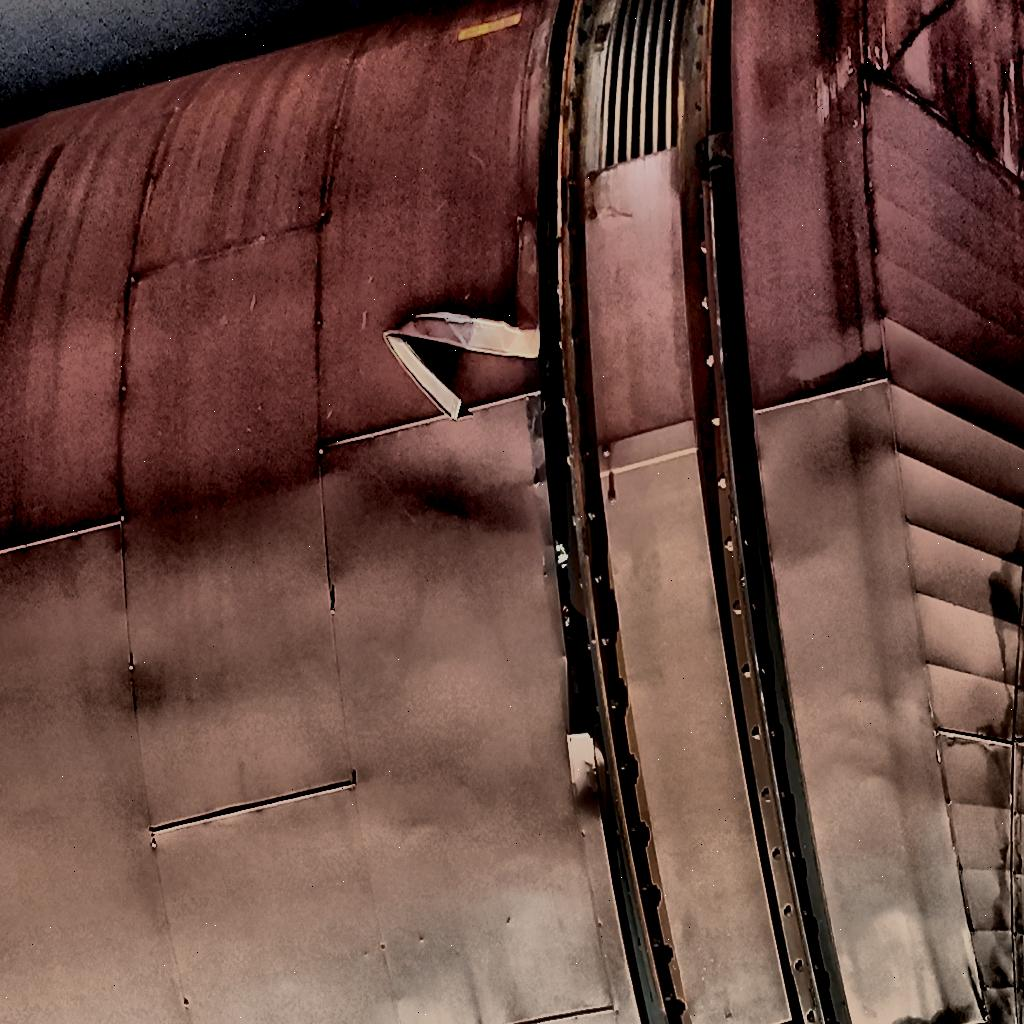Failures: (372, 50, 684, 896)
